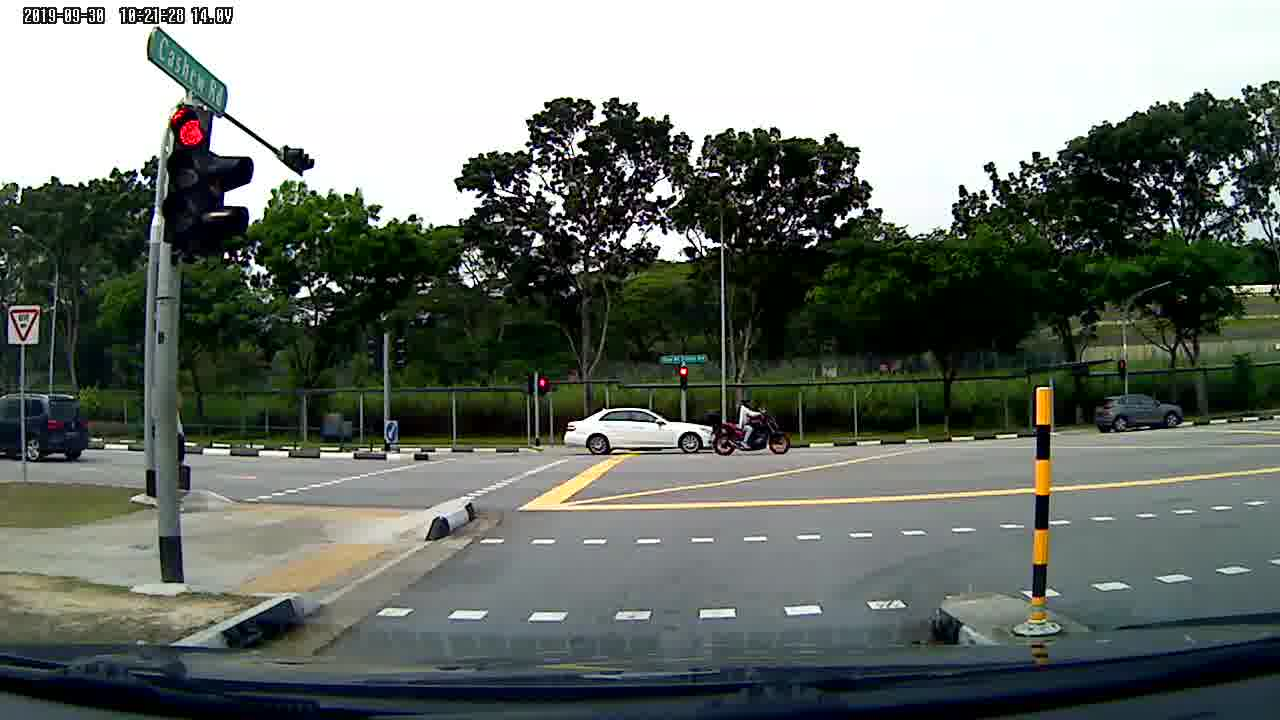car: (557, 404, 718, 459), (1, 387, 90, 465), (1091, 391, 1189, 431)
